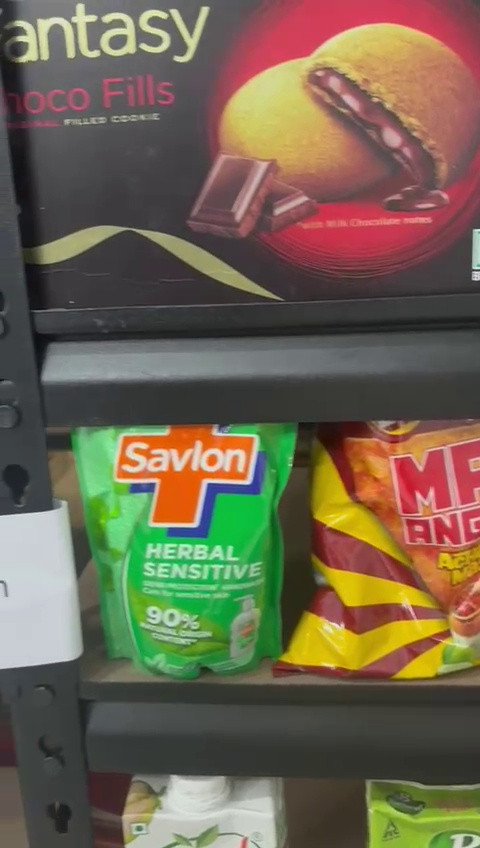Savlon Herbal: (79, 430, 288, 666)
